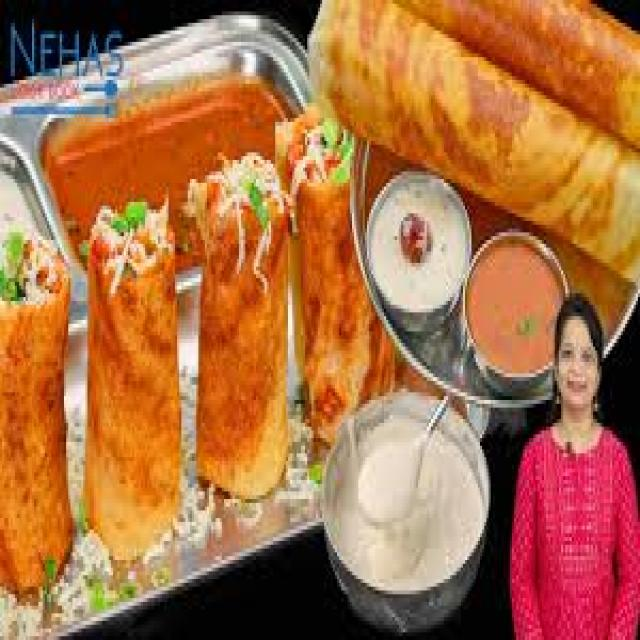DOSA: (305, 0, 638, 270), (83, 210, 177, 564)
